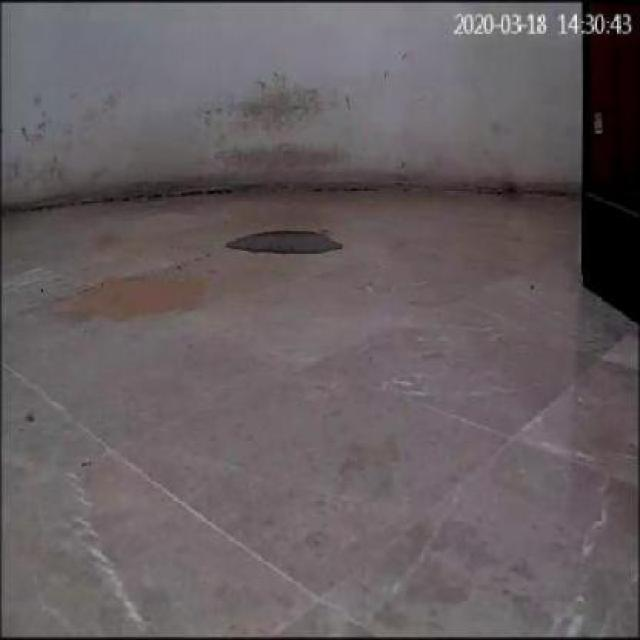spillage: (227, 229, 343, 257)
